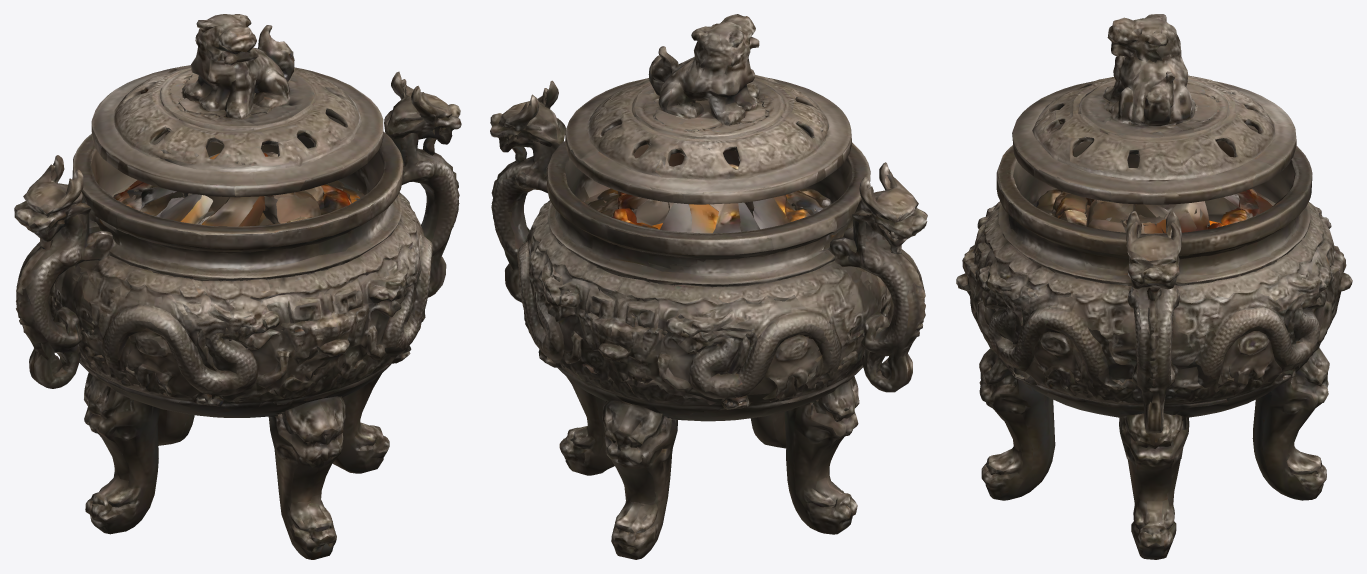
The model's file is dragon-cauldron.glb.
The picture shows the model from 3 angles, left to right: view 1: azimuth 30°, elevation 25°; view 2: azimuth 150°, elevation 25°; view 3: azimuth 270°, elevation 25°; orthographic projection. The views are drawn at different scales.
Parts seen in each view (by area): view 1: geometry_0; view 2: geometry_0; view 3: geometry_0.
Boxes of the visible parts, bbox=[...] form: geometry_0: bbox=[14, 14, 461, 559]; geometry_0: bbox=[490, 14, 927, 559]; geometry_0: bbox=[956, 14, 1352, 559].
Bounding box in the file's own units: 0.4021 × 0.4198 × 0.323.
1 material, 1 textured.
